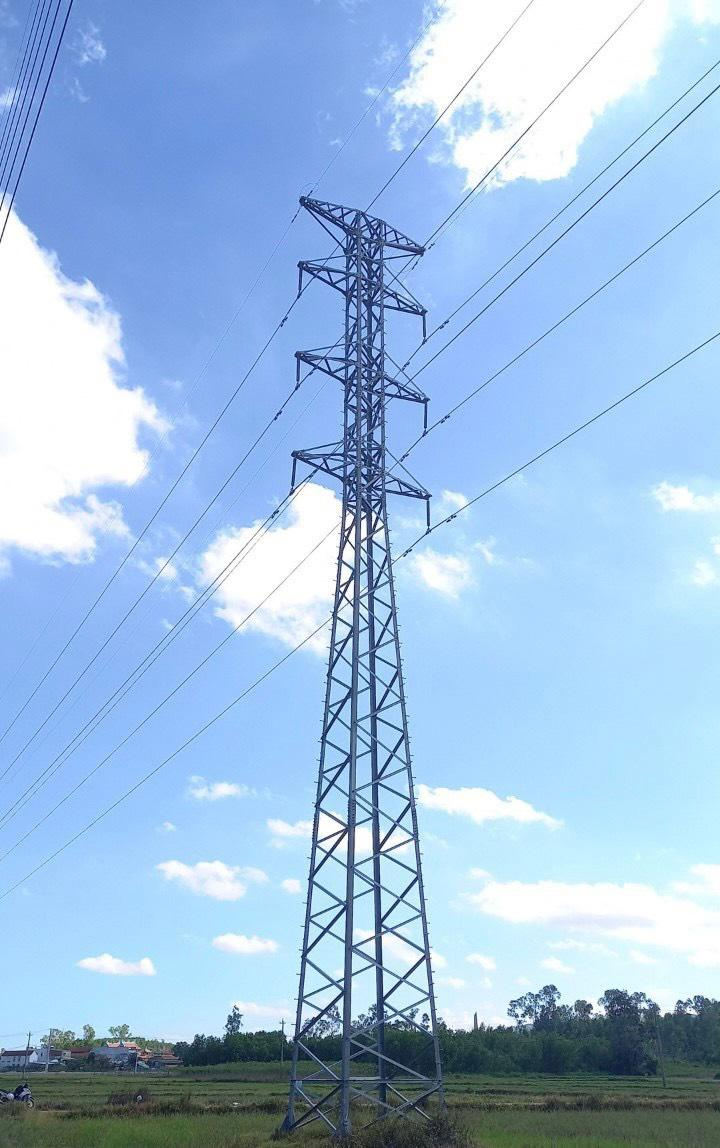power_tower: (280, 182, 443, 1125)
